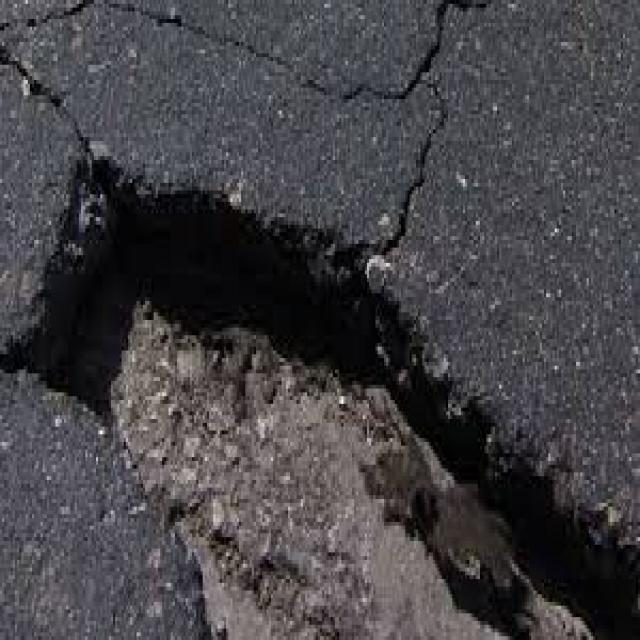Pothole: (1, 145, 640, 639)
